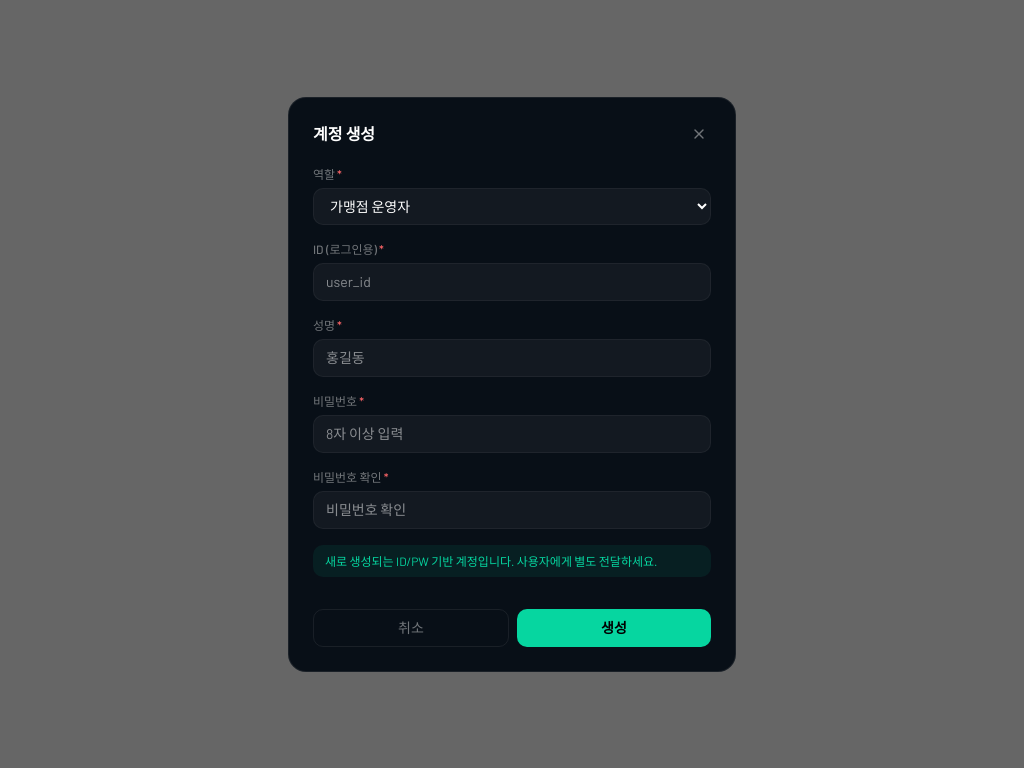
Test case: CreateAccountForm › Form Validation › should validate ID format (alphanumeric and underscore only)
Select "매장 관리자" in the dropdown labelled "역할*" at [512, 206], box [313,188,711,224]
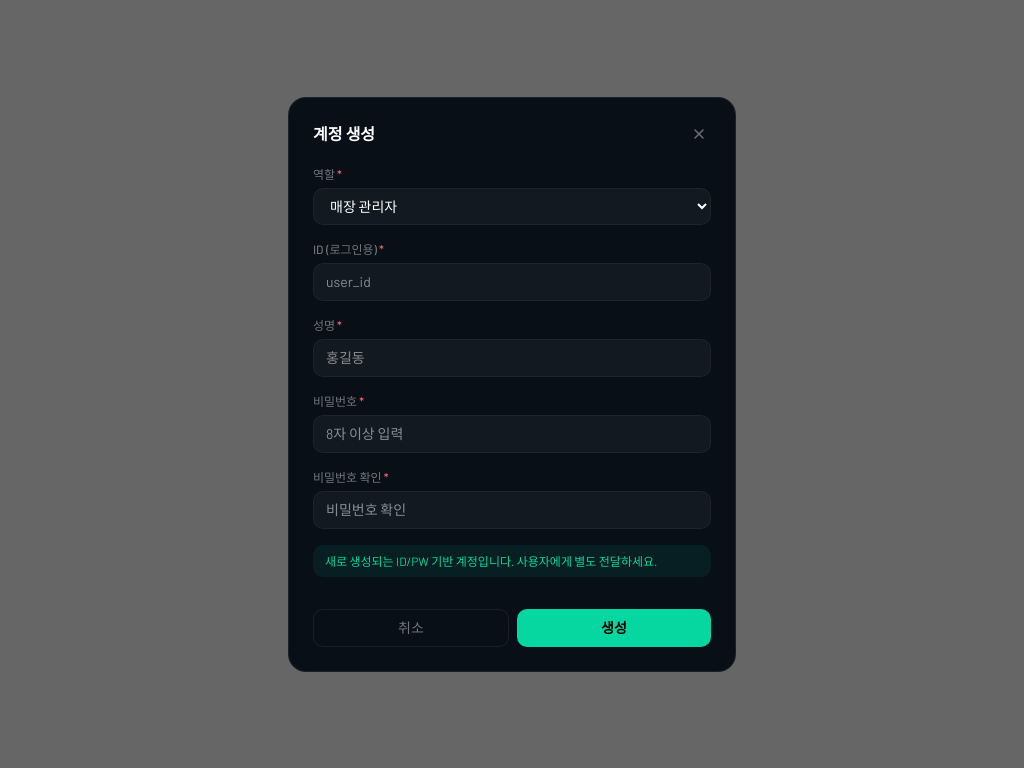
Type "user@invalid" into the field with placeholder "user_id" at [512, 282], box [313,262,711,300]
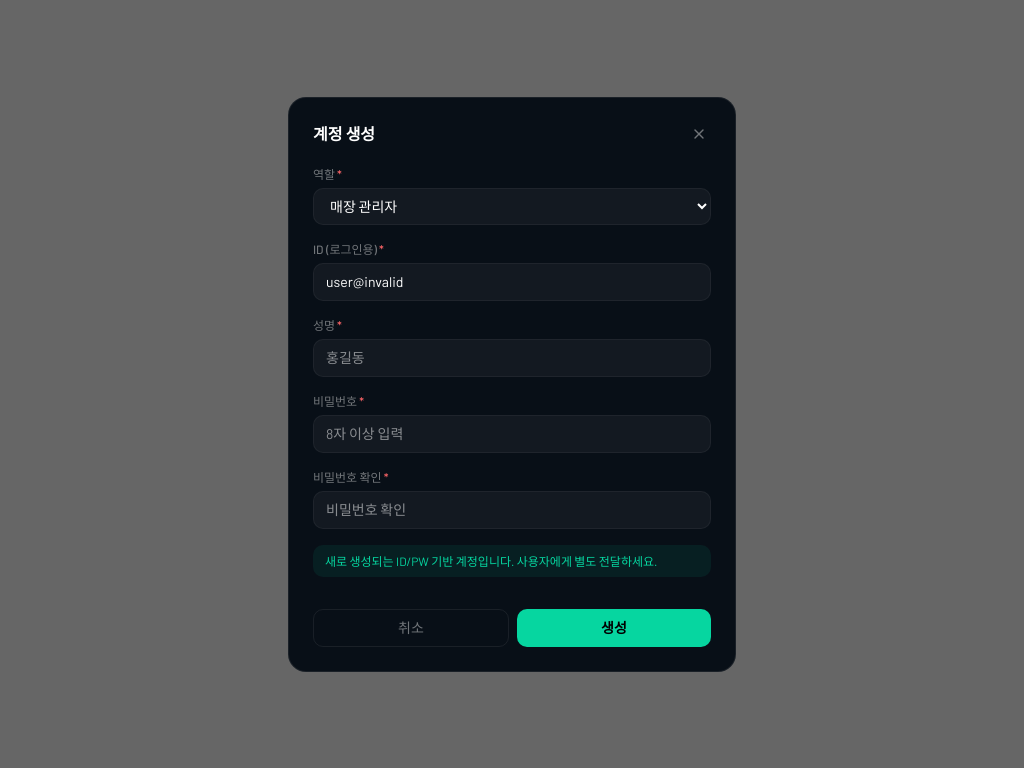
Click the button "생성" at [614, 628], box [517,608,711,646]
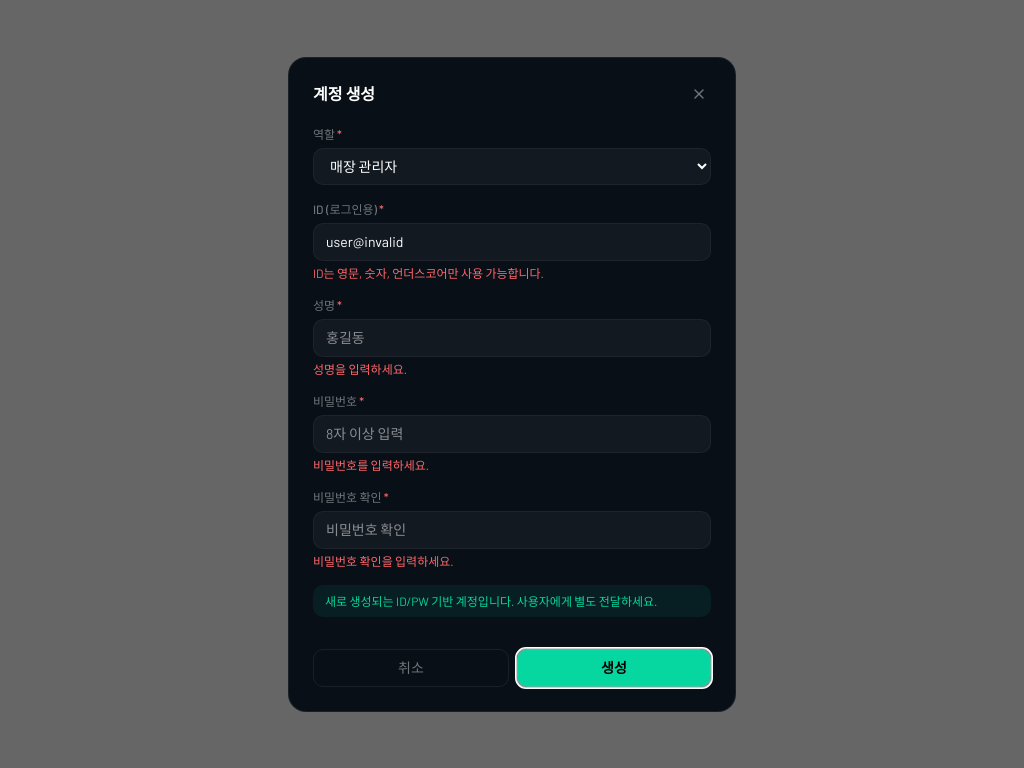
Now the text "ID는 영문, 숫자, 언더스코어만 사용 가능합니다." is shown, box [313,266,544,280]
